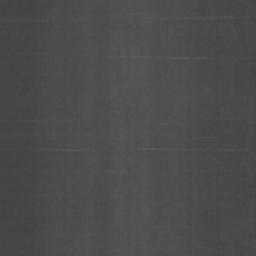Waist folding: (156, 15, 233, 21), (157, 55, 207, 61), (143, 147, 192, 152), (0, 19, 48, 23), (225, 148, 256, 153), (63, 148, 80, 153)
